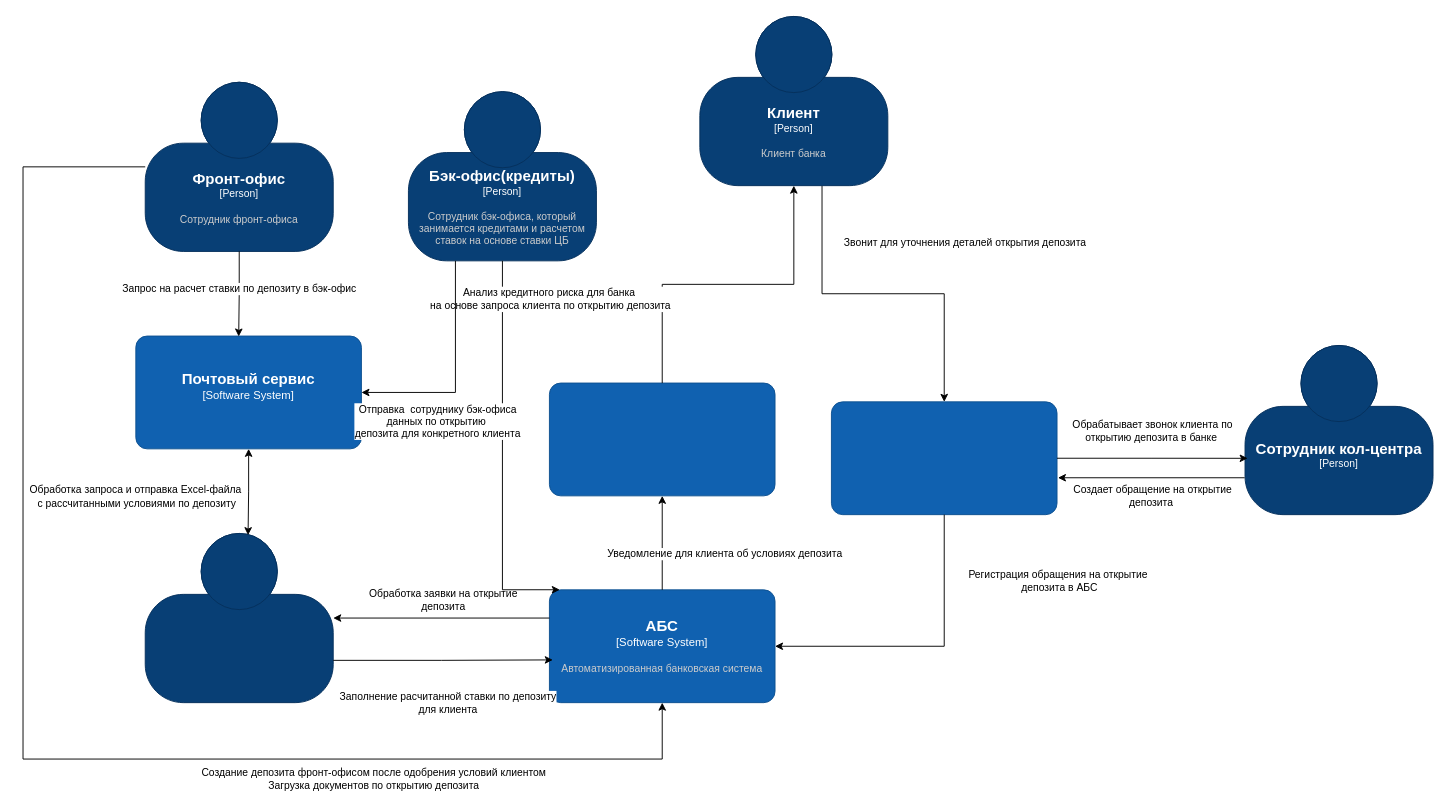
This 1449x807 diagram has some shape labels left out. The box of each missing label's shape, as (x1, y1, x2, y2) in pixels:
Бэк-офис (депозиты) [Person] Сотрудники бэк-офиса, которы занимаются депозитами: (144, 533, 333, 703)
Система кол-центра [Software System]: (830, 401, 1057, 515)
СМС-шлюз [Software System] Система уведомления клиентов через СМС: (548, 382, 775, 496)
